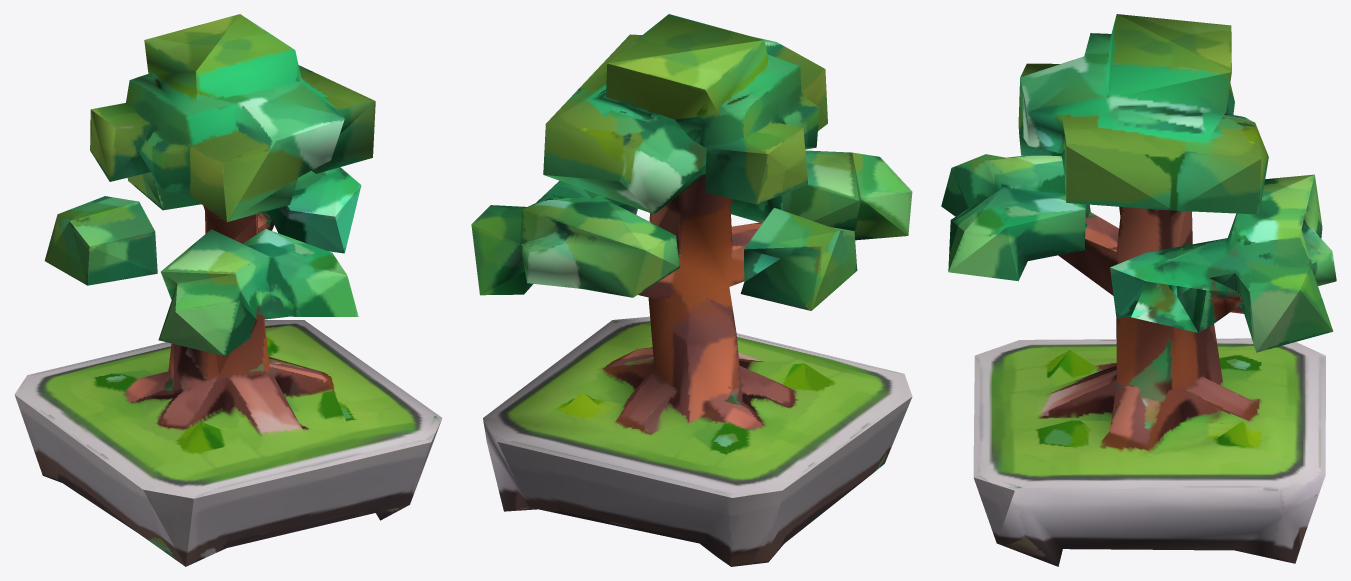
File: potted-bonsai.glb
The picture shows the model from 3 angles, left to right: view 1: azimuth 30°, elevation 25°; view 2: azimuth 150°, elevation 25°; view 3: azimuth 270°, elevation 25°; orthographic projection. The views are drawn at different scales.
Parts seen in each view (by area): view 1: geometry_0.001; view 2: geometry_0.001; view 3: geometry_0.001.
Boxes of the visible parts, x1,y1,x2,y2 form: geometry_0.001: [14, 14, 442, 566]; geometry_0.001: [471, 14, 912, 566]; geometry_0.001: [941, 14, 1336, 566].
Bounding box in the file's own units: 0.7327 × 0.9979 × 0.7731.
Materials: 1 (1 with a texture image).
